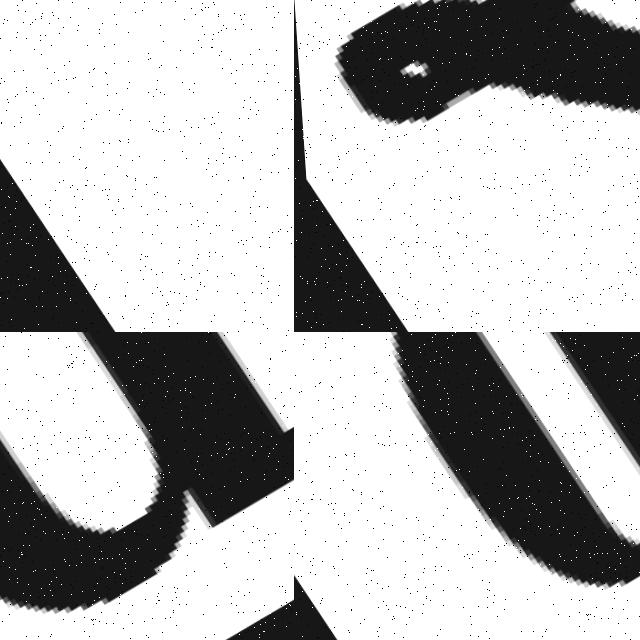2: (0, 0, 294, 332)
G: (0, 332, 294, 640)
Q: (294, 332, 640, 640)
Z: (294, 0, 640, 332)
